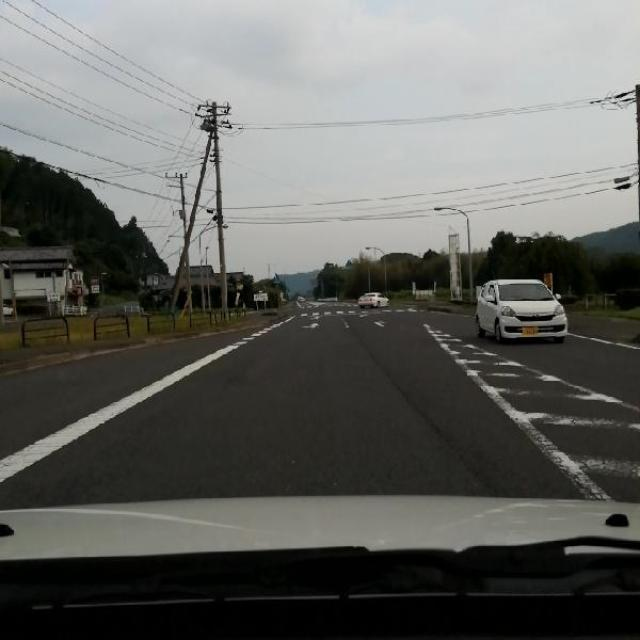Crack: (353, 328, 484, 475)
